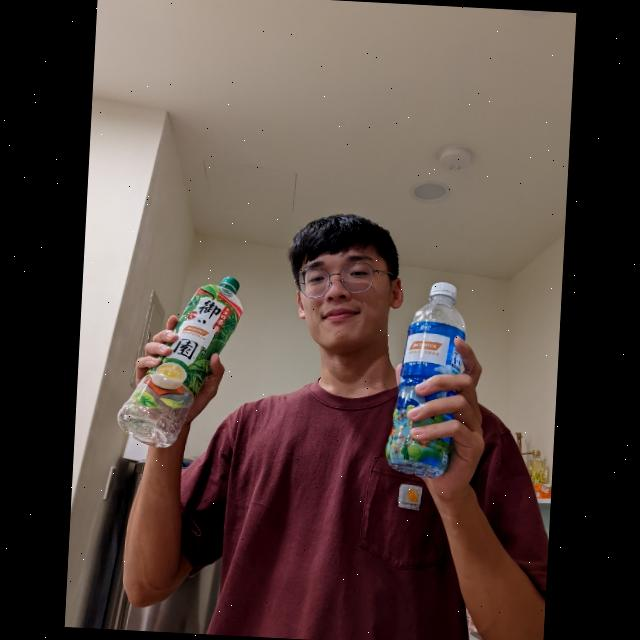trash: (112, 268, 248, 454), (382, 276, 472, 482)
